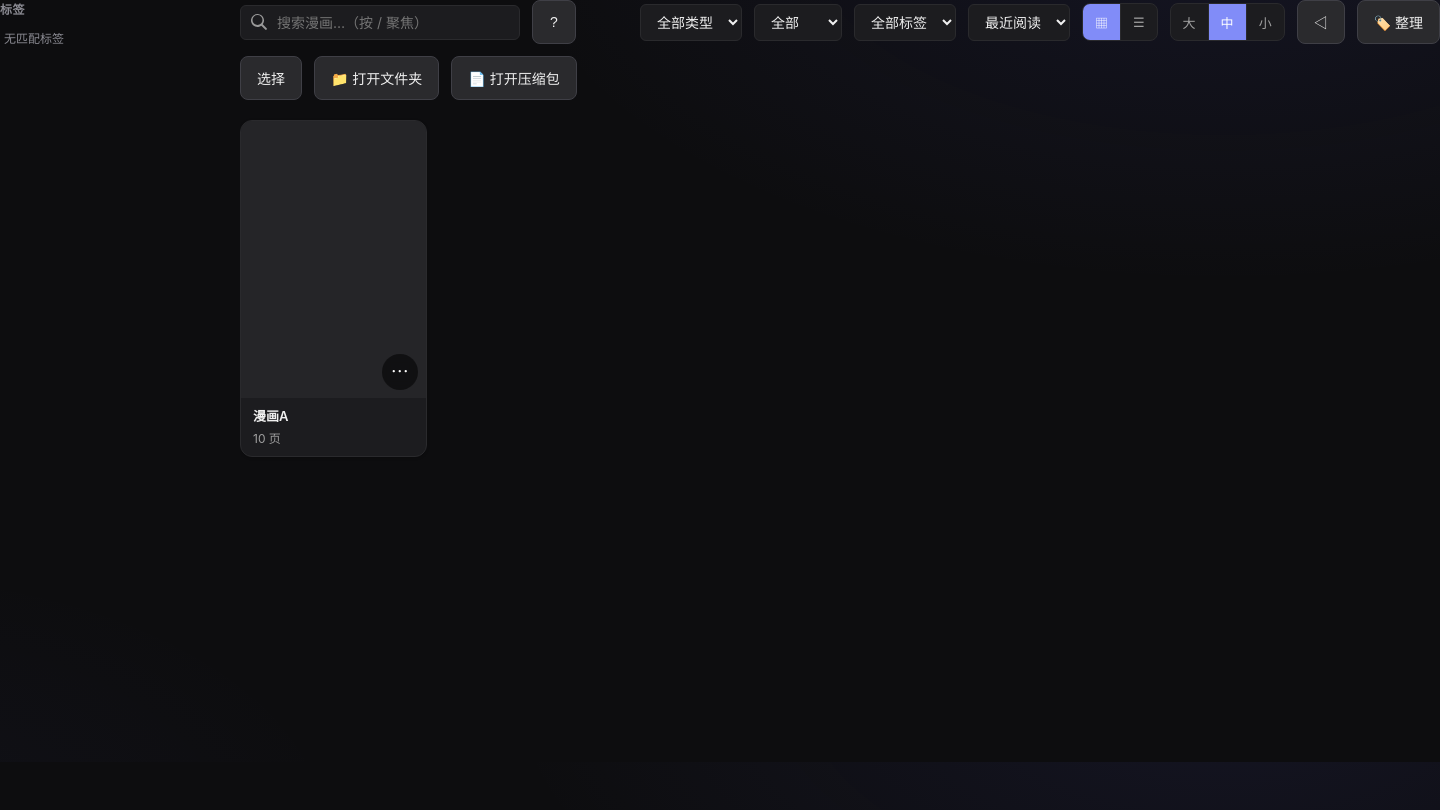
Library 卡片操作面板（触屏可达性） › 「⋯」按钮打开操作面板（看得见的入口，不必靠长按猜）
Expected: the text "漫画A" is shown, top-left (253, 408), bottom-right (288, 424)
Click the button named "更多操作：漫画A" at (400, 372), box top-left (382, 354), bottom-right (418, 390)
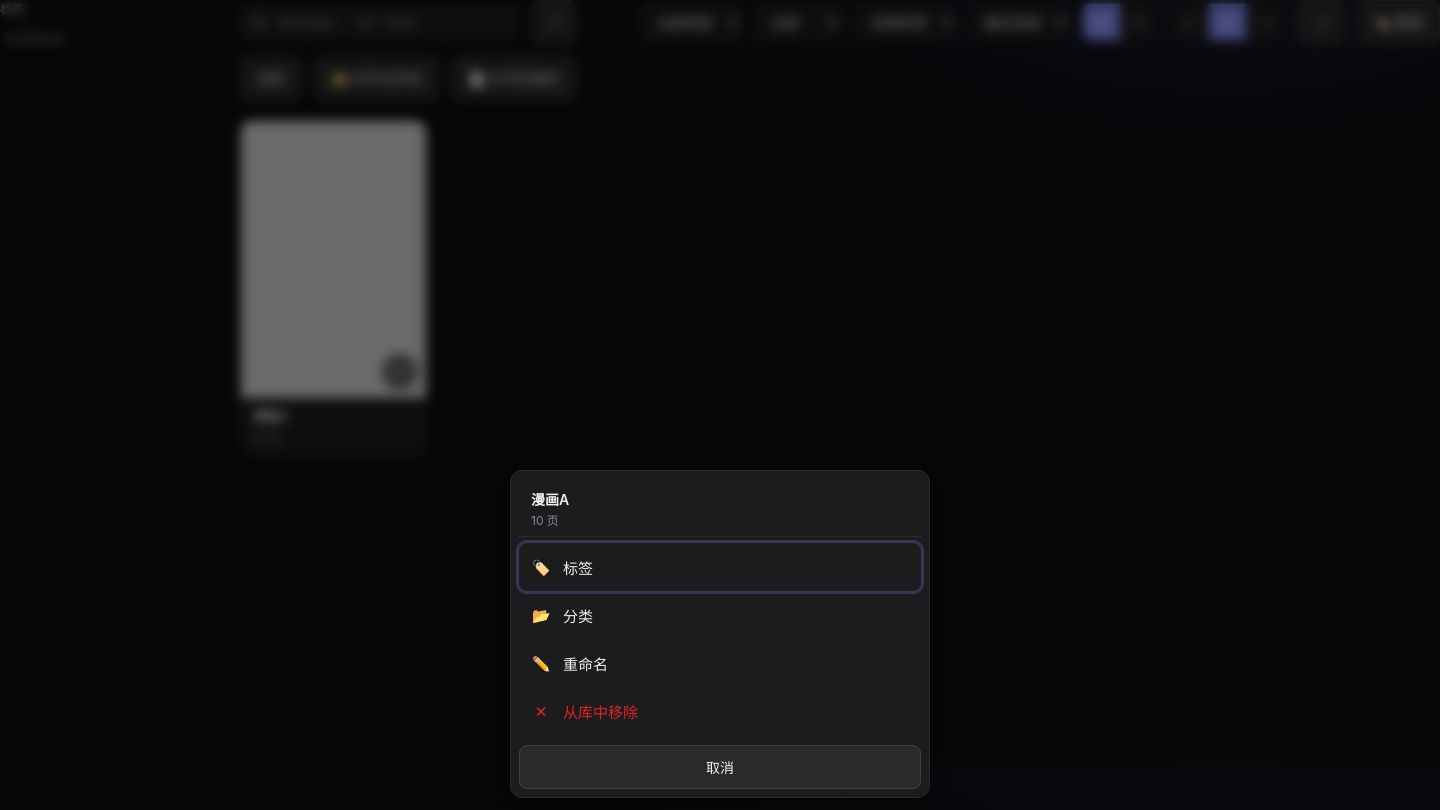
Expected: the dialog named "漫画操作" is shown, top-left (510, 470), bottom-right (930, 798)
Expected: the button "🏷️ 标签" is shown, top-left (519, 543), bottom-right (921, 591)
Expected: the button "📂 分类" is shown, top-left (519, 591), bottom-right (921, 639)
